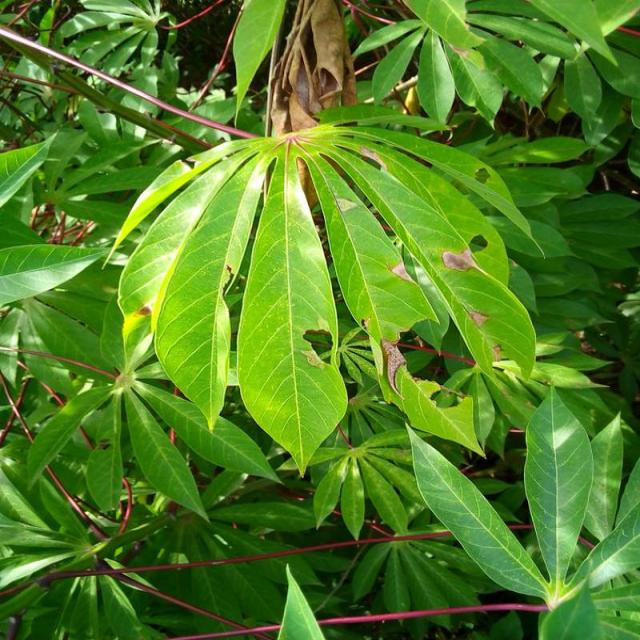cassava leaf: (106, 108, 538, 472), (237, 138, 349, 476), (524, 382, 595, 595)
